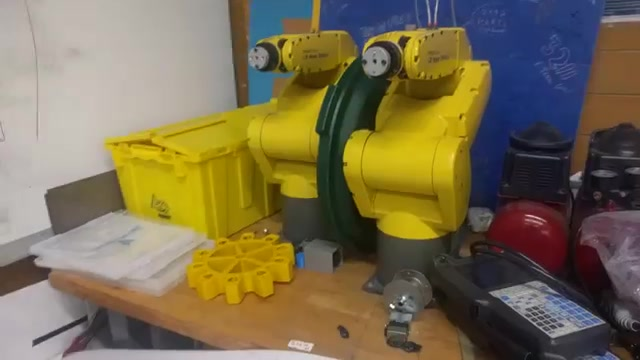gear: (183, 222, 296, 307)
